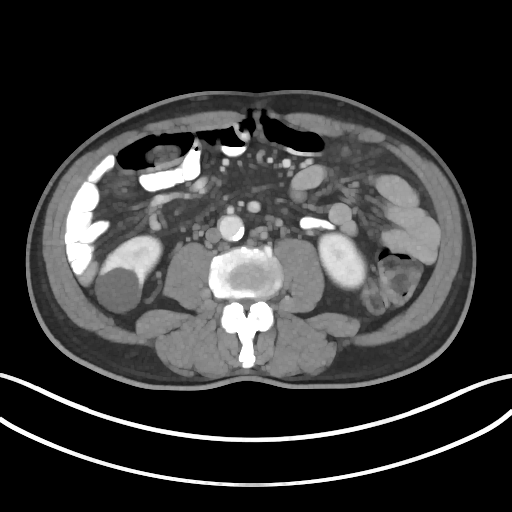Lesion: (95, 266, 143, 313)
